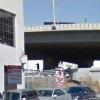Car: (35, 81, 95, 100)
